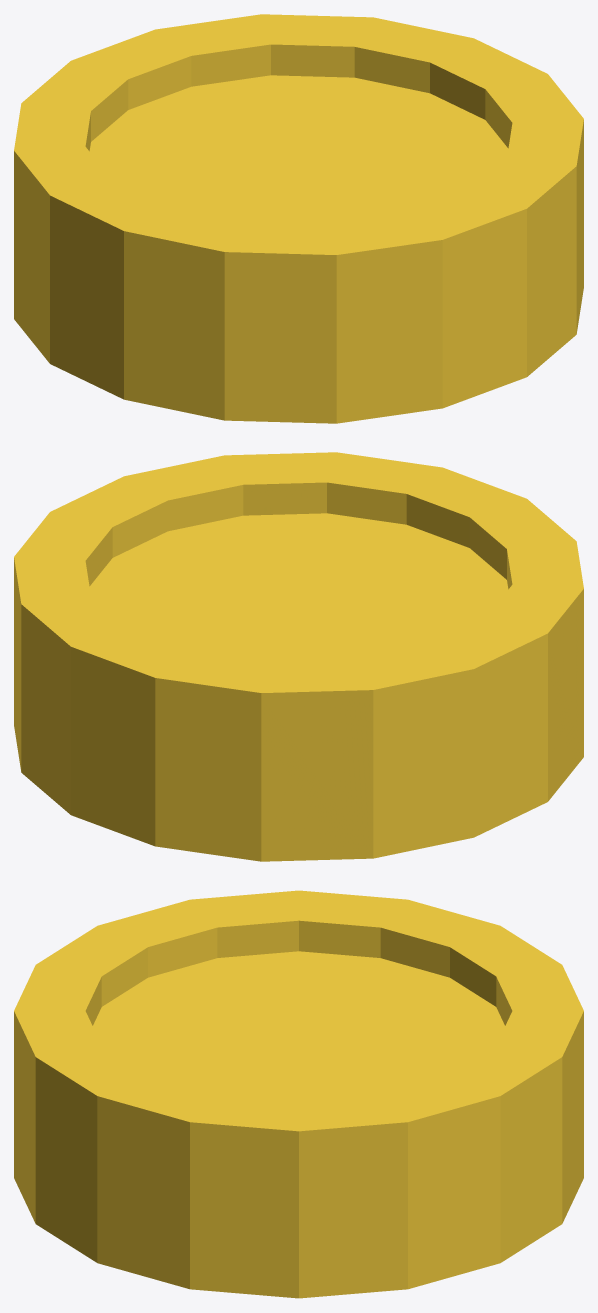
The model's file is coin.fbx.
The picture shows the model from 3 angles, top to bottom: view 1: azimuth 30°, elevation 25°; view 2: azimuth 150°, elevation 25°; view 3: azimuth 270°, elevation 25°; orthographic projection.
Visible parts, largest first — view 1: Cylinder; view 2: Cylinder; view 3: Cylinder.
Part boxes in pixels (box(x1,y1,x2,y2)): Cylinder: box(14, 14, 583, 423); Cylinder: box(14, 452, 583, 861); Cylinder: box(14, 890, 583, 1298).
Size of the model in its own units: 68 by 22 by 68.
